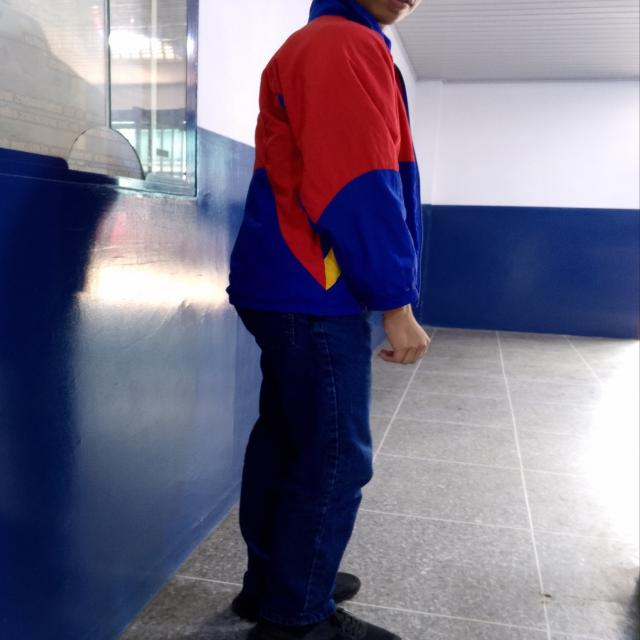chaqueta_unefa: (226, 0, 424, 318)
pantalon_oscuro: (229, 316, 376, 632)
